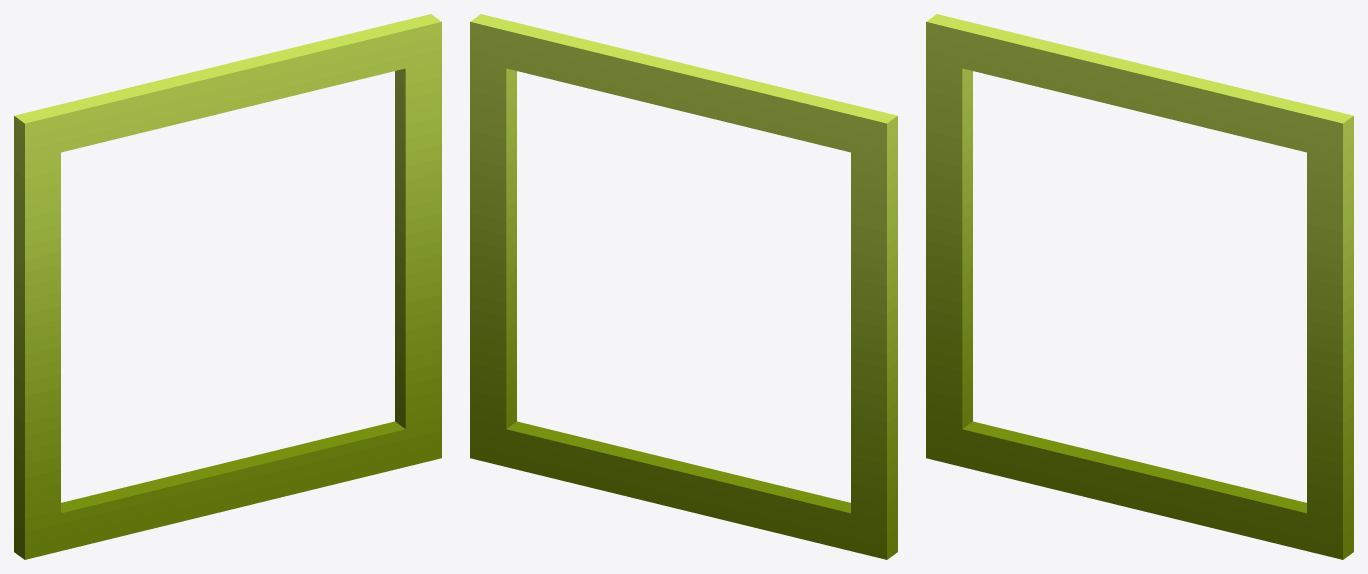
The model's file is GateModel.FBX.
3 renders of one model, left to right at view 1: azimuth 30°, elevation 25°; view 2: azimuth 150°, elevation 25°; view 3: azimuth 330°, elevation 25°, orthographic.
Parts seen in each view (by area): view 1: Gate; view 2: Gate; view 3: Gate.
Boxes of the visible parts, x1,y1,x2,y2 form: Gate: (14, 14, 441, 559); Gate: (470, 14, 897, 559); Gate: (926, 14, 1353, 559).
Size of the model in its own units: 1772 by 1772 by 78.74.
1 material, 1 textured.
